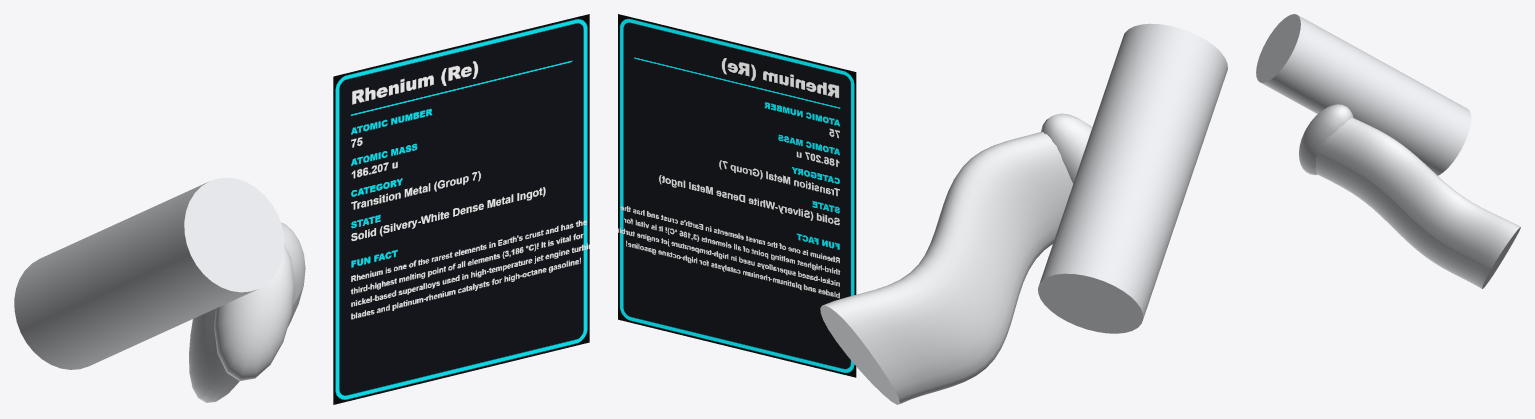
The model's file is rhenium.glb.
The picture shows the model from 3 angles, left to right: view 1: azimuth 30°, elevation 25°; view 2: azimuth 150°, elevation 25°; view 3: azimuth 270°, elevation 25°; orthographic projection. The views are drawn at different scales.
Parts seen in each view (by area): view 1: Mesh_4, Mesh_0, Mesh_2, Mesh_1; view 2: Mesh_4, Mesh_0, Mesh_1, Mesh_2; view 3: Mesh_0, Mesh_1, Mesh_2.
Boxes of the visible parts, x1,y1,x2,y2 form: Mesh_4: (333,14,589,404); Mesh_0: (14,177,284,369); Mesh_2: (214,244,294,380); Mesh_1: (189,222,305,402); Mesh_4: (618,14,856,377); Mesh_0: (1038,23,1227,333); Mesh_1: (820,132,1072,404); Mesh_2: (1041,113,1092,183); Mesh_0: (1256,14,1471,175); Mesh_1: (1315,117,1520,288); Mesh_2: (1299,104,1353,175).
Size of the model in its own units: 2.52 by 1.52 by 1.56.
3 materials, 1 textured.
